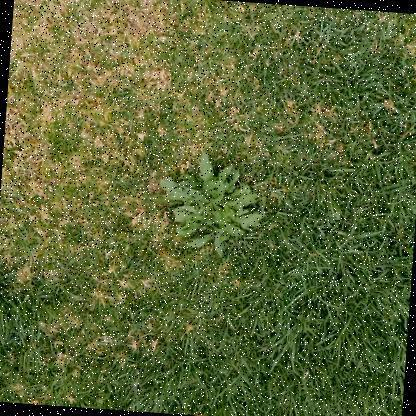Weeds: (147, 150, 270, 263)
